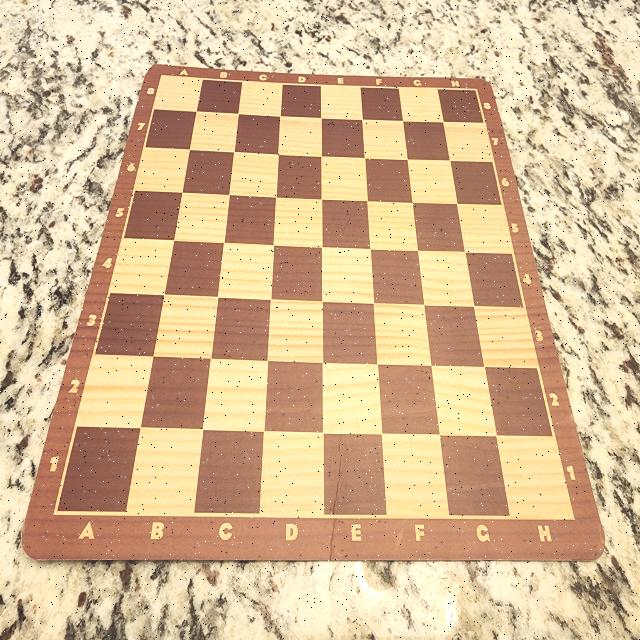Bottom-Right: (498, 438, 574, 516), (67, 427, 132, 514)
Top-Left: (160, 76, 199, 111)
Top-Right: (439, 89, 484, 121)
